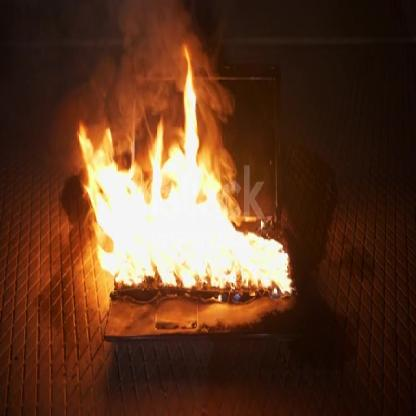fire: (79, 65, 297, 296)
smoke: (45, 0, 241, 190)
